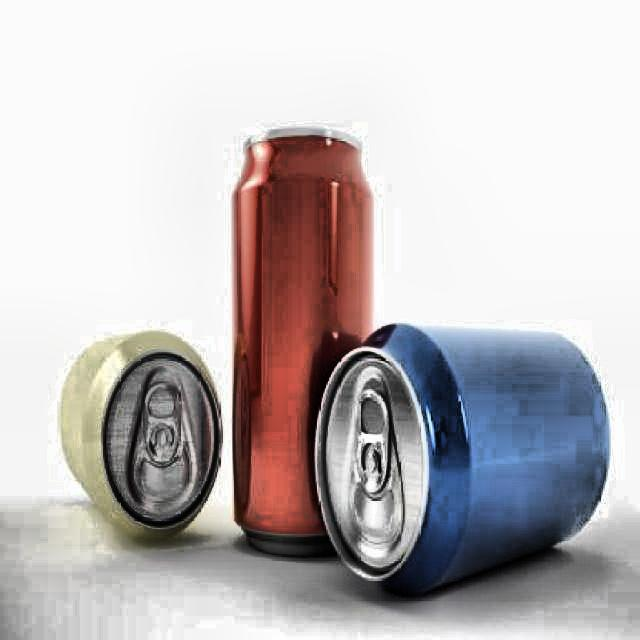can: (310, 319, 613, 596), (230, 124, 379, 564), (58, 329, 227, 556)
